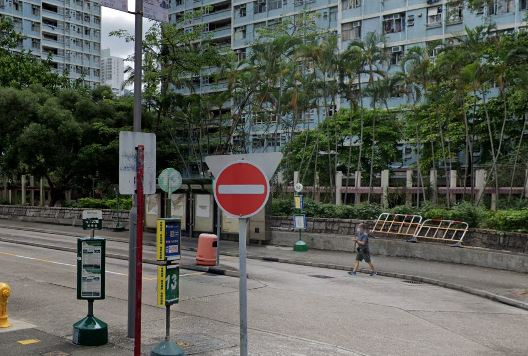No Enter: (213, 161, 272, 218)
